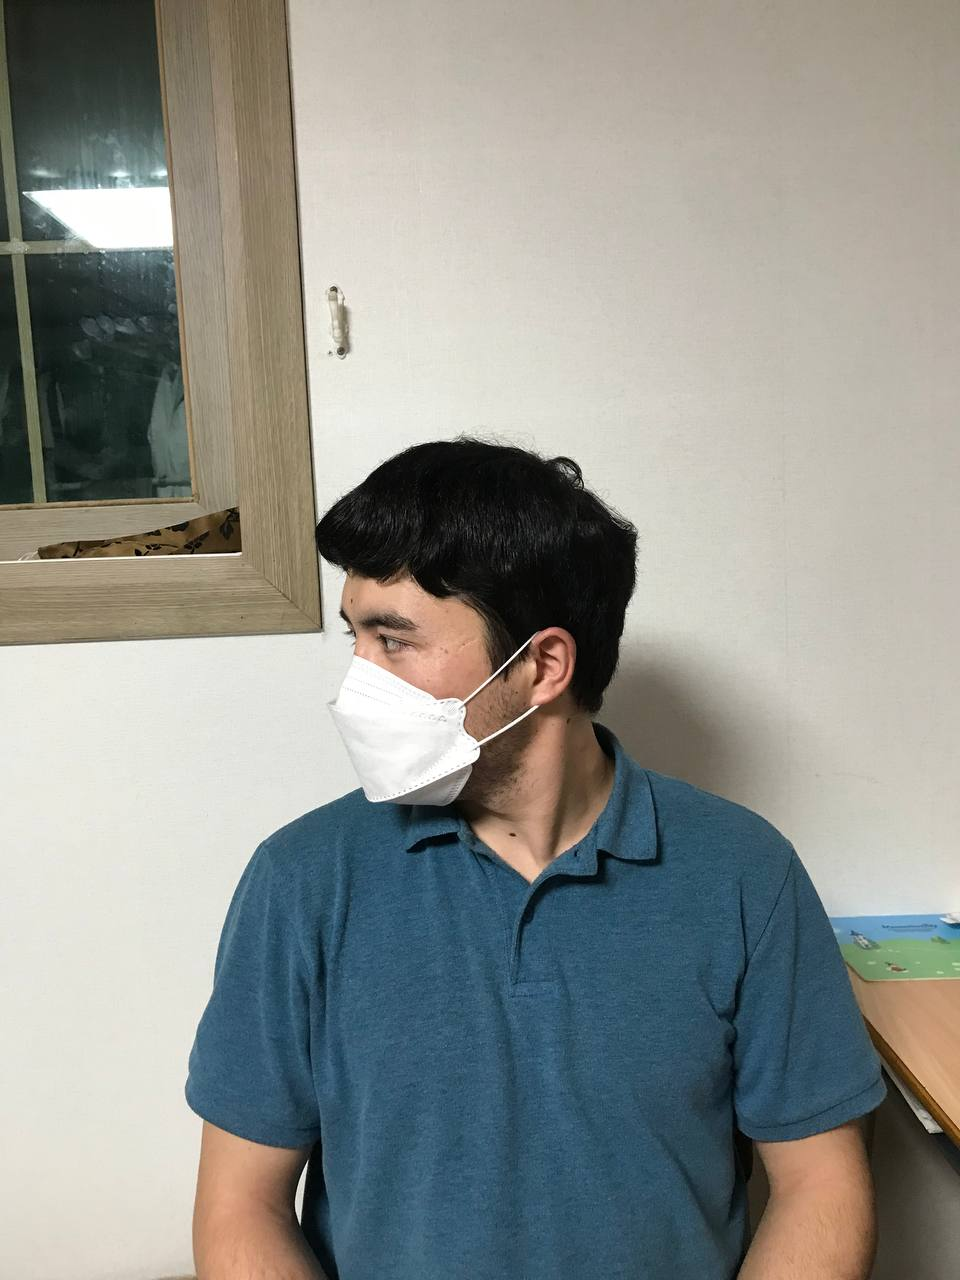Mask: (327, 650, 610, 808)
